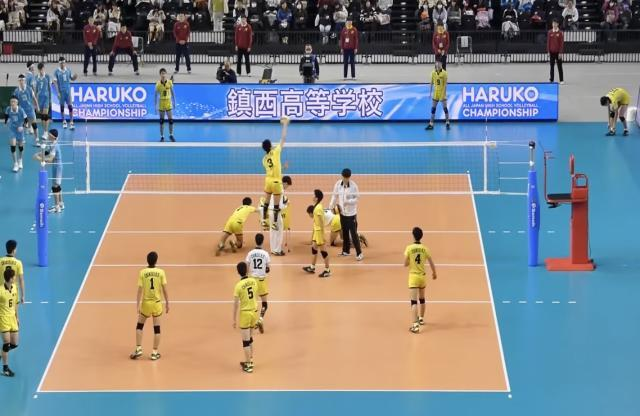spike: (258, 115, 294, 235)
